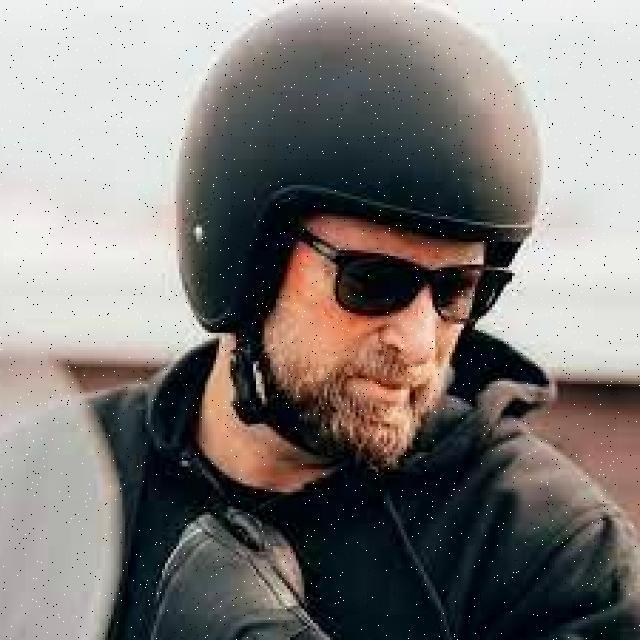helmet: (176, 2, 538, 482)
